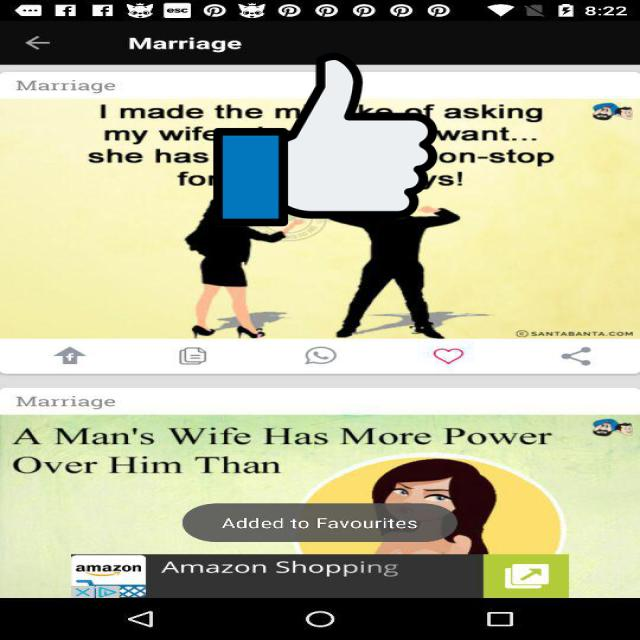privacy zuckering: (213, 49, 438, 230)
